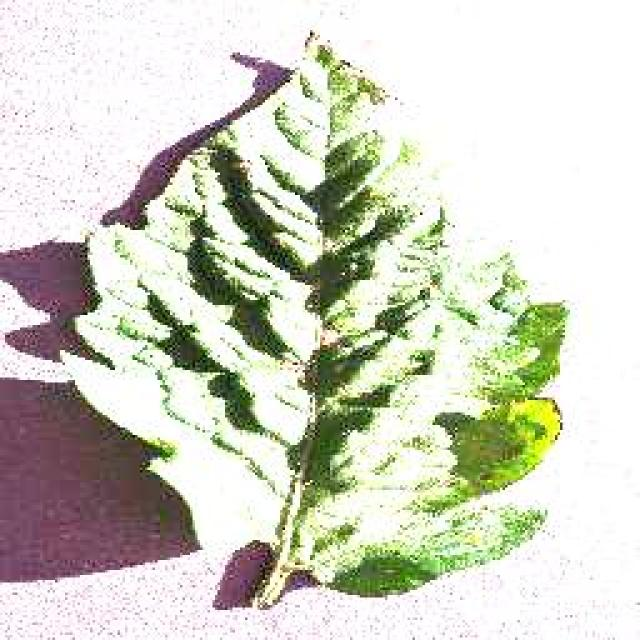Tomato___Target_Spot: (62, 38, 565, 605)
